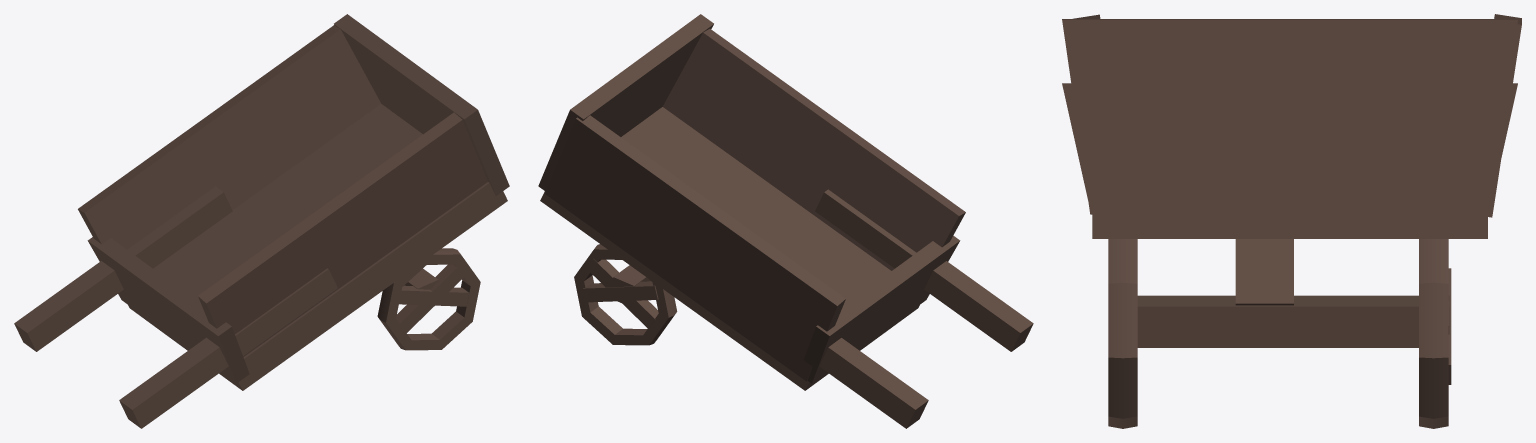
File: PB_Cart.fbx
The picture shows the model from 3 angles, left to right: view 1: azimuth 30°, elevation 25°; view 2: azimuth 150°, elevation 25°; view 3: azimuth 270°, elevation 25°; orthographic projection. The views are drawn at different scales.
Parts seen in each view (by area): view 1: PB_Cart; view 2: PB_Cart; view 3: PB_Cart.
Boxes of the visible parts, x1,y1,x2,y2 form: PB_Cart: [14, 14, 509, 428]; PB_Cart: [538, 14, 1033, 428]; PB_Cart: [1062, 14, 1521, 428].
Size of the model in its own units: 184 by 114 by 111.
